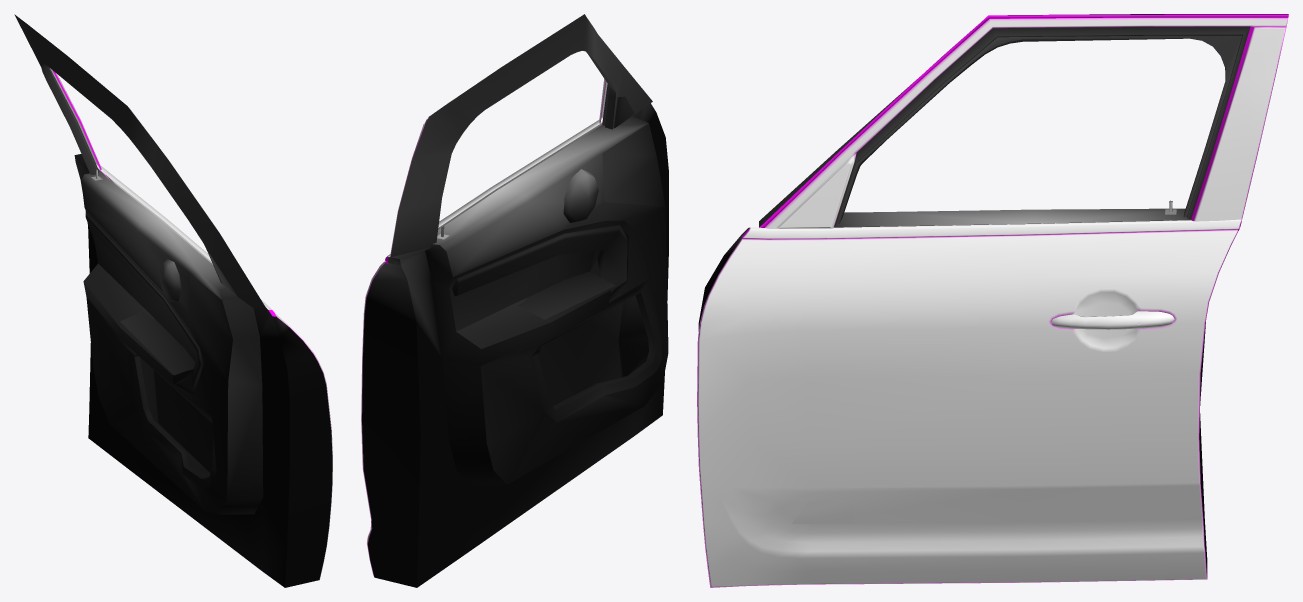
Rendered from Car_Mini_CountrymanJCW_2017_DoorL_SetA_AltB.fbx.
3 views of the same model, side by side, from view 1: azimuth 30°, elevation 25°; view 2: azimuth 150°, elevation 25°; view 3: azimuth 270°, elevation 25° (orthographic). The views are drawn at different scales.
Visible parts, largest first — view 1: DoorL 6; view 2: DoorL 6; view 3: DoorL 6.
Boxes of the visible parts, x1=… form: DoorL 6: x1=14, y1=14, x2=332, y2=587; DoorL 6: x1=361, y1=14, x2=668, y2=587; DoorL 6: x1=697, y1=14, x2=1288, y2=587.
Bounding box in the file's own units: 0.307 × 1.16 × 1.19.
